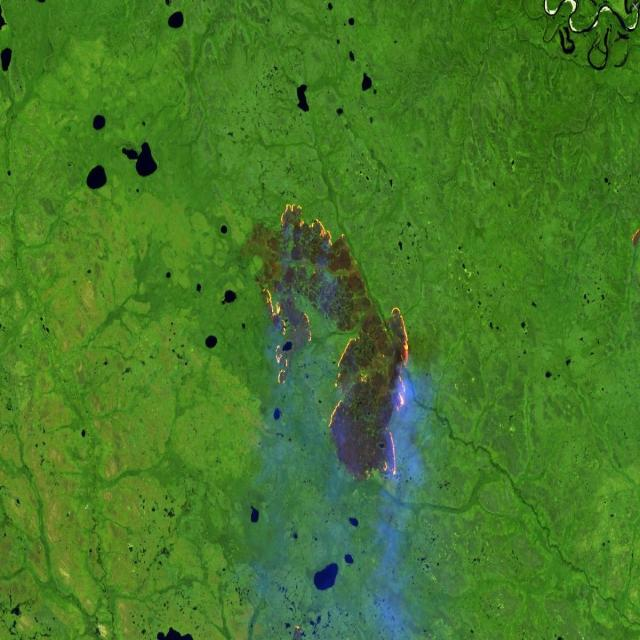fire: (255, 194, 409, 486)
